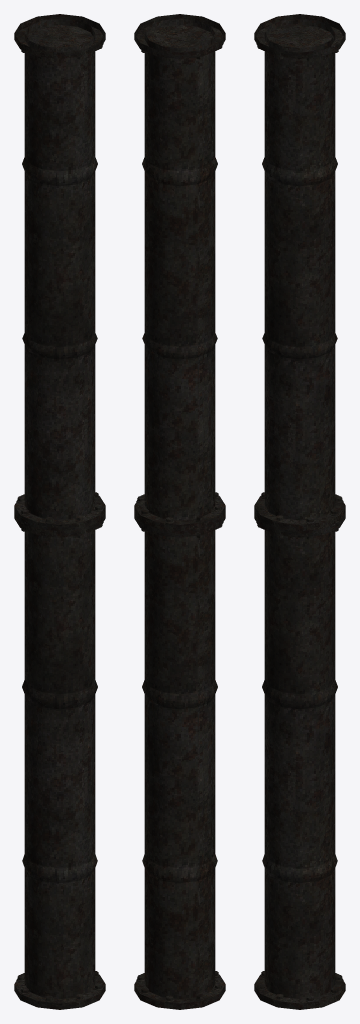
Rendered from pipe_1.glb.
3 views of the same model, side by side, from view 1: azimuth 30°, elevation 25°; view 2: azimuth 210°, elevation 25°; view 3: azimuth 330°, elevation 25° (orthographic).
Visible parts, largest first — view 1: pipe_1; view 2: pipe_1; view 3: pipe_1.
Part boxes in pixels (x1=…): pipe_1: x1=14, y1=14, x2=105, y2=1009; pipe_1: x1=134, y1=14, x2=225, y2=1009; pipe_1: x1=254, y1=14, x2=345, y2=1009.
Bounding box in the file's own units: 0.26 × 3 × 0.26.
Materials: 1 (1 with a texture image).
